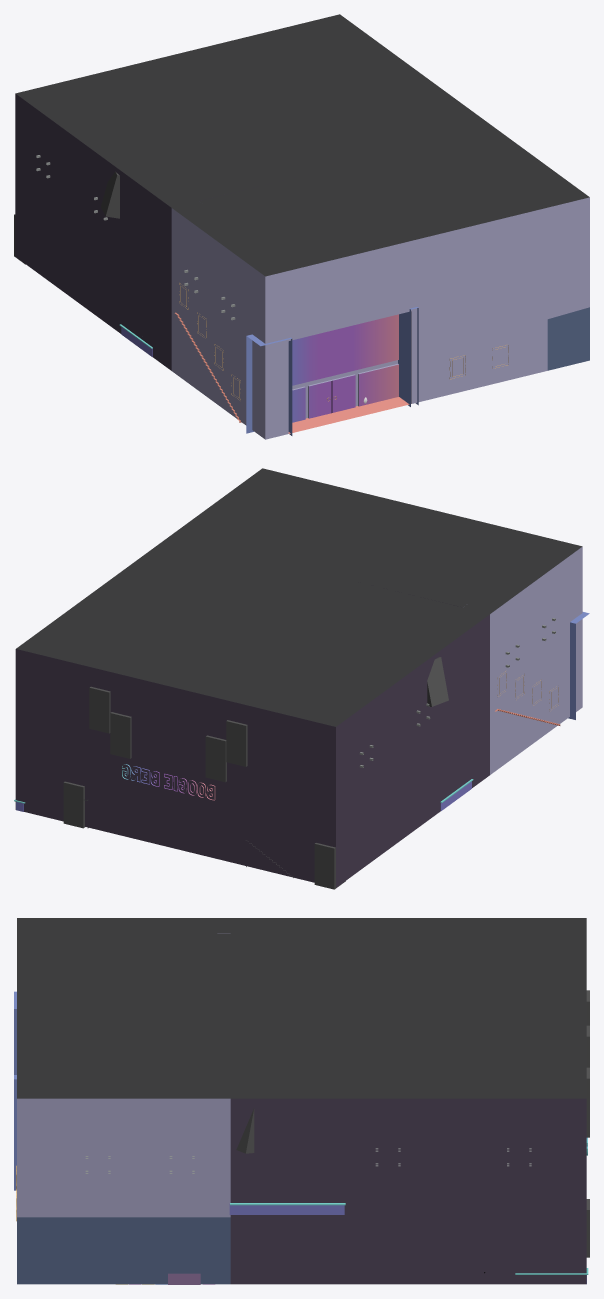
File: Individual_BoogieBerg_03.fbx
3 views of the same model, one above another, from view 1: azimuth 30°, elevation 25°; view 2: azimuth 150°, elevation 25°; view 3: azimuth 270°, elevation 25° (orthographic). The views are drawn at different scales.
Visible parts, largest first — view 1: polySurface7, polySurface5, pasted__Object_Box24, pasted__Object_Box25, pCube107; view 2: polySurface7, polySurface5, pCube111, pCube113, pCube105, pCube10, pCube96, pCube104, pCube107, typeMesh3, pasted__Object_Box25; view 3: polySurface7, polySurface5, pasted__Object_Box52, pCube106.
Boxes of the visible parts, x1,y1,x2,y2 form: polySurface7: [15, 94, 589, 439]; polySurface5: [15, 14, 589, 276]; pasted__Object_Box24: [398, 307, 418, 406]; pasted__Object_Box25: [246, 334, 292, 435]; pCube107: [101, 172, 119, 218]; polySurface7: [15, 547, 582, 887]; polySurface5: [16, 468, 582, 726]; pCube111: [314, 843, 345, 889]; pCube113: [63, 781, 84, 828]; pCube105: [89, 686, 110, 733]; pCube10: [110, 712, 131, 758]; pCube96: [205, 735, 226, 782]; pCube104: [226, 720, 247, 766]; pCube107: [427, 657, 448, 706]; typeMesh3: [122, 764, 215, 800]; pasted__Object_Box25: [568, 612, 589, 719]; polySurface7: [17, 933, 586, 1284]; polySurface5: [17, 918, 586, 1098]; pasted__Object_Box52: [229, 1203, 344, 1214]; pCube106: [236, 1108, 254, 1153].
Size of the model in its own units: 2405 by 1106 by 3065.
